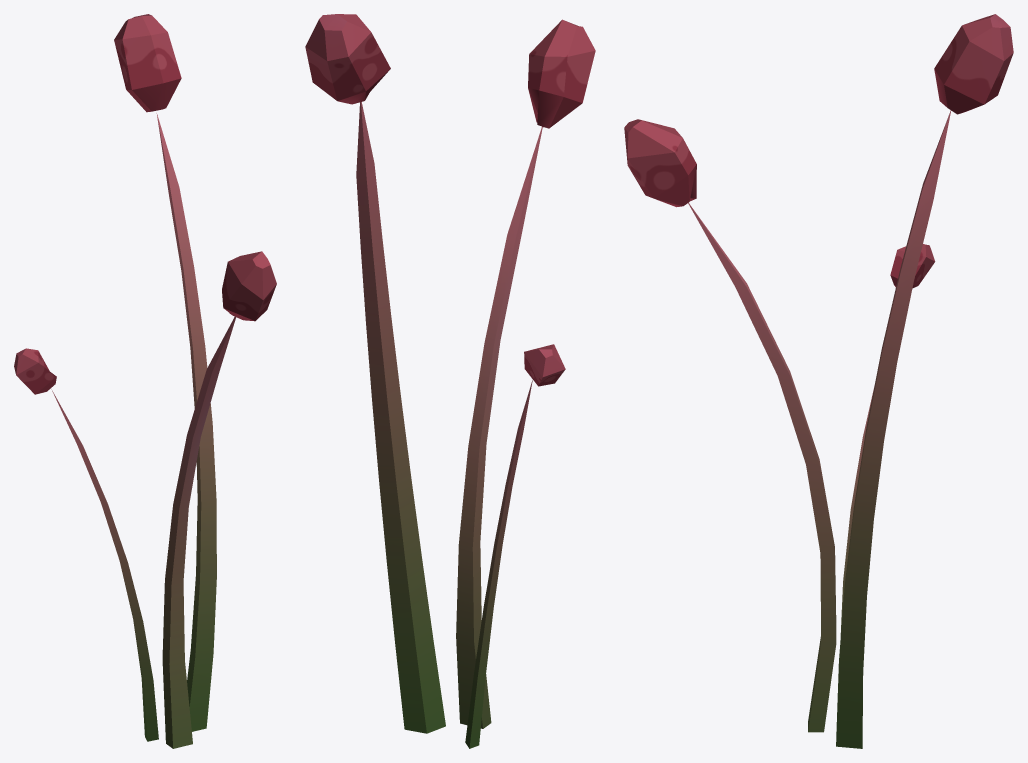
The model's file is SM_Jonc.FBX.
3 views of the same model, side by side, from view 1: azimuth 30°, elevation 25°; view 2: azimuth 150°, elevation 25°; view 3: azimuth 270°, elevation 25° (orthographic). The views are drawn at different scales.
Visible parts, largest first — view 1: Object001; view 2: Object001; view 3: Object001.
Part boxes in pixels (x1,y1,x2,y2): Object001: (14,14,276,748); Object001: (305,14,595,748); Object001: (624,14,1013,748).
Size of the model in its own units: 28.4 by 97.25 by 46.63.
